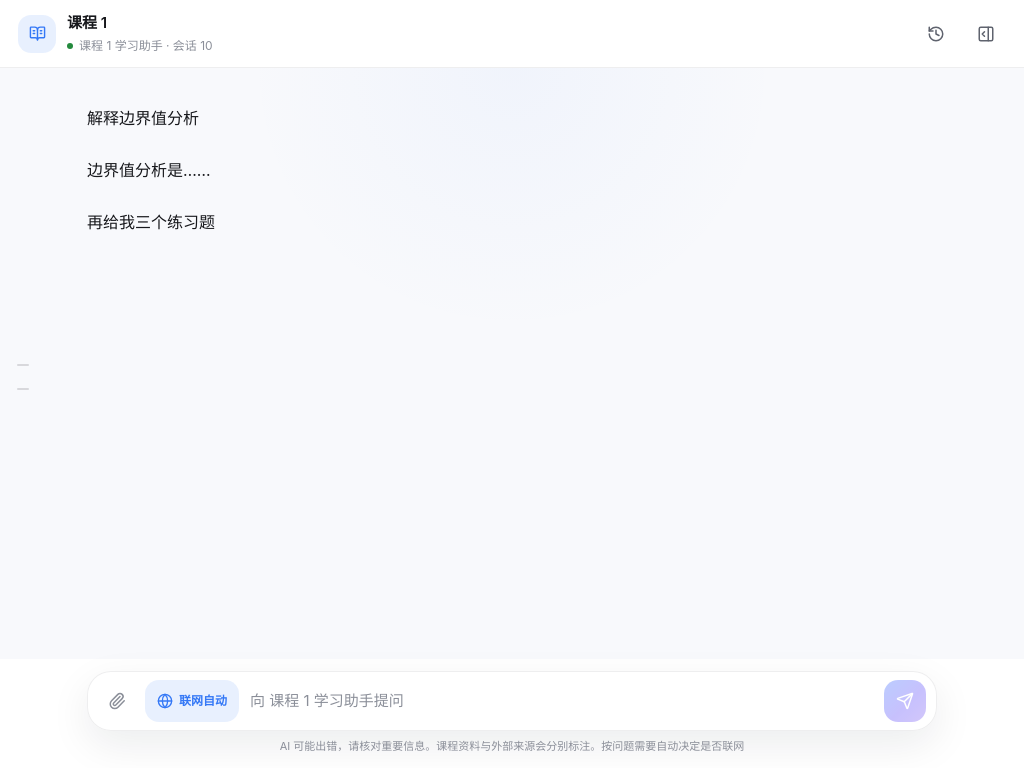
Test case: WorkspaceChat stream isolation › builds a current conversation outline and keeps history in the header drawer
The image size is (1024, 768).
Expected: the number of icons with class "anchor-bar" is 2, [17,364,29,366]; [17,388,29,390]
Click the 1st button with class "anchor-item" at (26, 372), box [14,364,38,380]
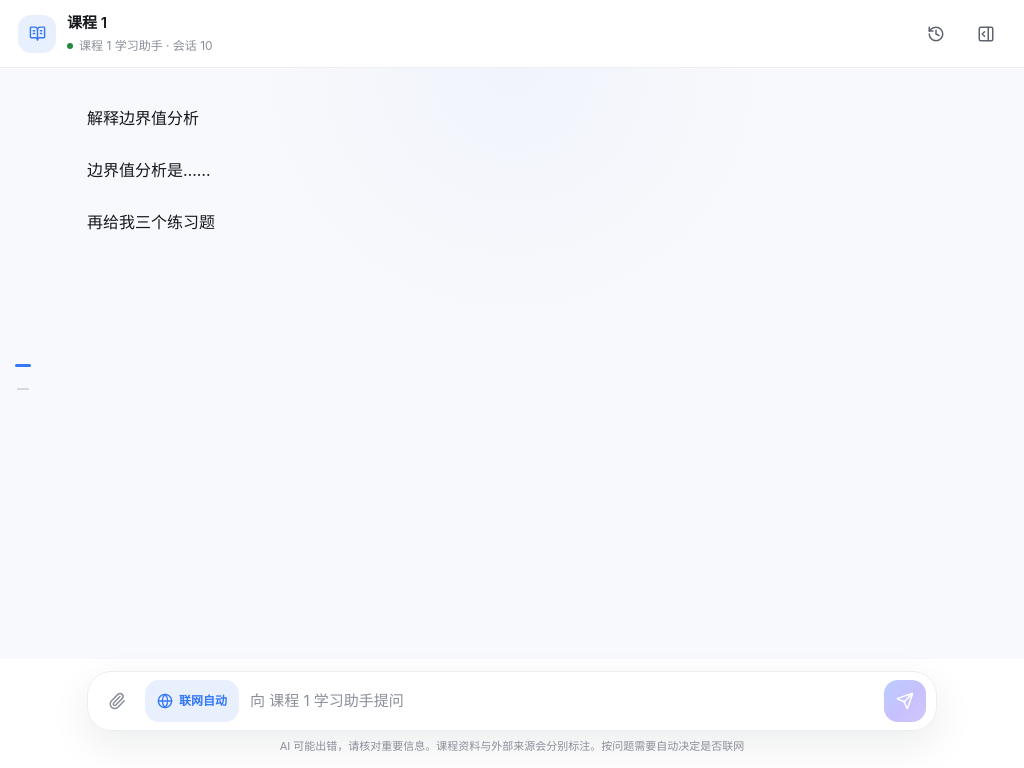
Click the button with class "history-action" at (936, 34), box [916,14,956,54]
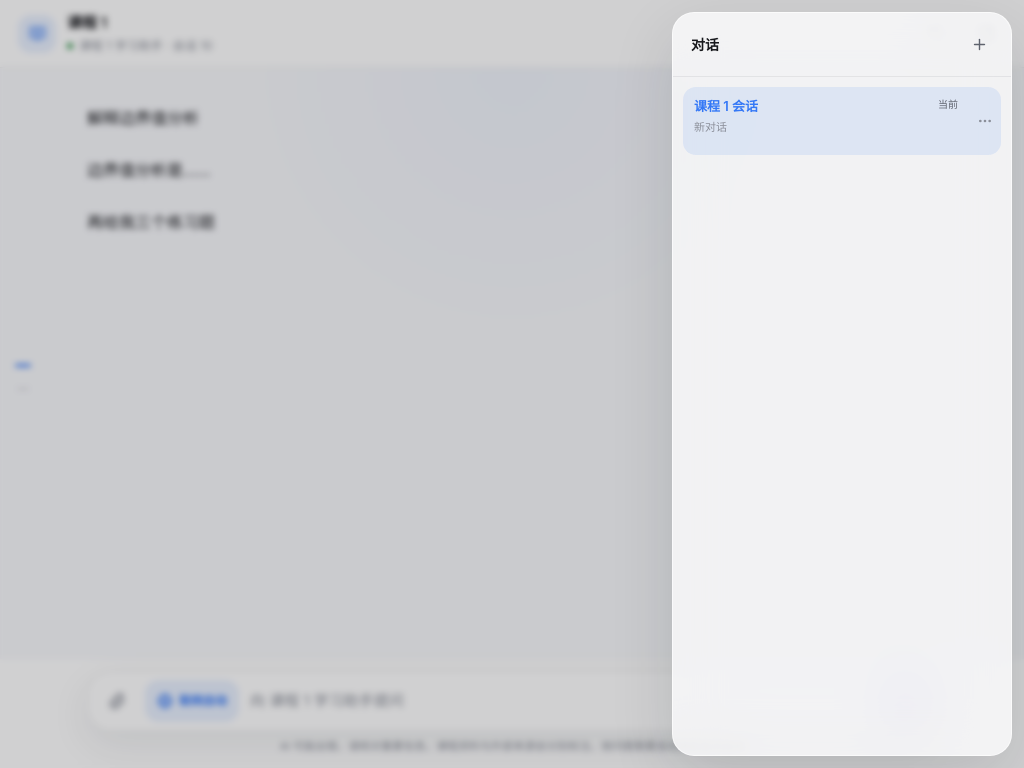
Now the element with class "history-drawer" shows "课程 1 会话", box [683,87,963,155]
